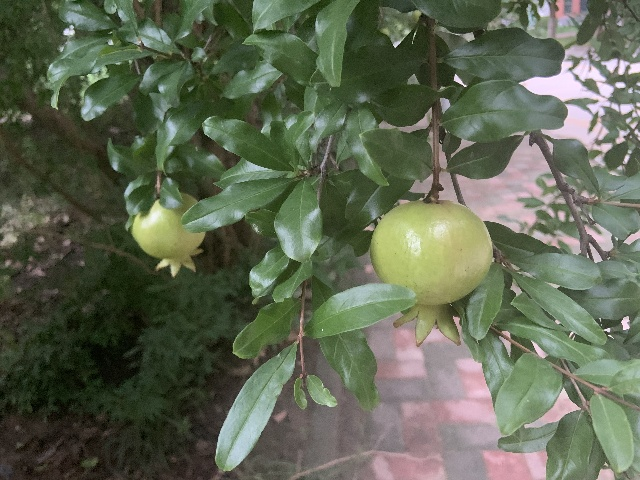mid-growth: (370, 199, 493, 347), (131, 192, 206, 277)
